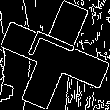L_SE: (26, 31, 84, 79)
